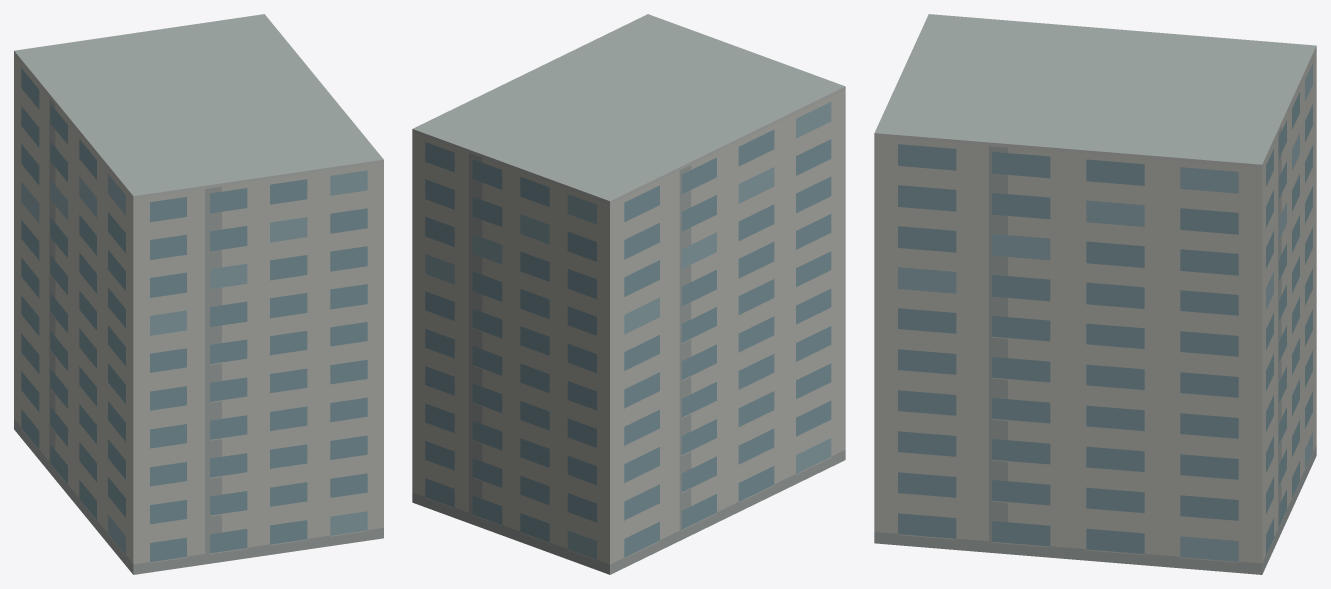
Rendered from residential-c0c64eff-2f8e-49b6-adb6-b2791980def3.glb.
The picture shows the model from 3 angles, left to right: view 1: azimuth 30°, elevation 25°; view 2: azimuth 150°, elevation 25°; view 3: azimuth 270°, elevation 25°; orthographic projection. The views are drawn at different scales.
Visible parts, largest first — view 1: residential-c0c64eff-2f8e-49b6-adb6-b2791980def3.tmp; view 2: residential-c0c64eff-2f8e-49b6-adb6-b2791980def3.tmp; view 3: residential-c0c64eff-2f8e-49b6-adb6-b2791980def3.tmp.
Boxes of the visible parts, x1,y1,x2,y2 form: residential-c0c64eff-2f8e-49b6-adb6-b2791980def3.tmp: (14, 14, 383, 574); residential-c0c64eff-2f8e-49b6-adb6-b2791980def3.tmp: (412, 14, 845, 574); residential-c0c64eff-2f8e-49b6-adb6-b2791980def3.tmp: (874, 14, 1316, 574).
Bounding box in the file's own units: 22.07 × 28 × 27.36.
